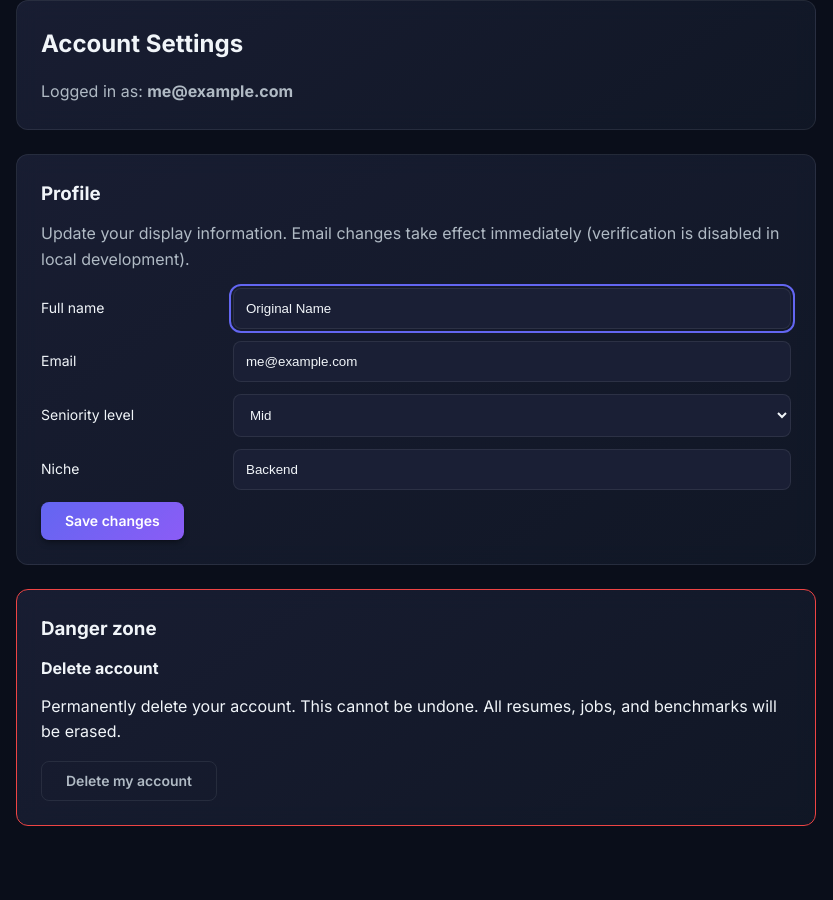
Settings page — profile form › shows an inline error and skips PATCH when nothing changed
The width and height of the screenshot is (833, 900).
Click the button "Save changes". click: (112, 521)
box: x1=41 y1=502 x2=184 y2=540
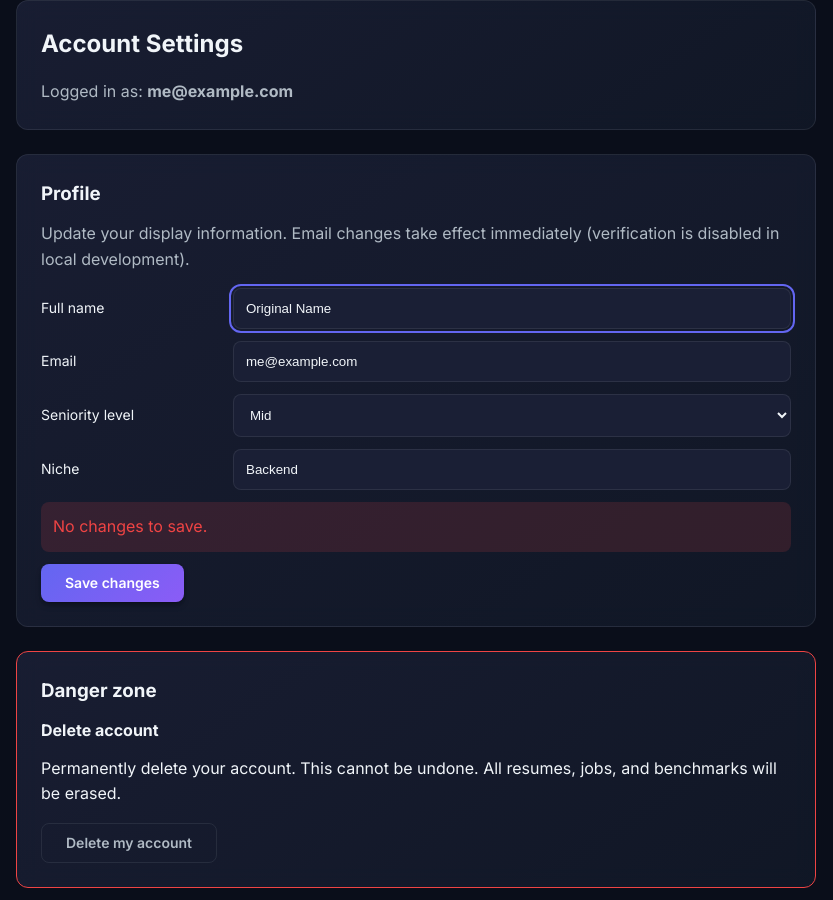
Expected: the message shows "No changes to save", x1=53 y1=516 x2=207 y2=536
